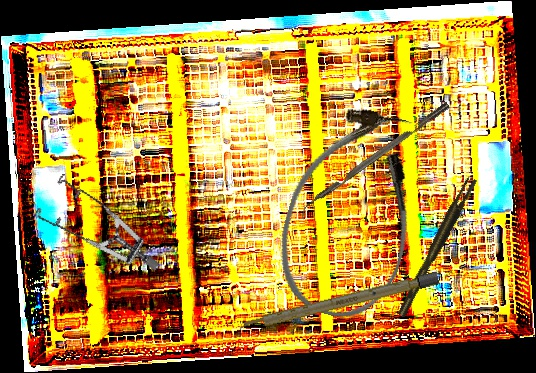Cannula: (263, 96, 439, 330)
Chopper: (294, 101, 456, 222)
Scalpel Handle: (237, 271, 440, 334)
Speculum: (23, 153, 160, 307)
Tissue Forceps: (390, 175, 482, 318)
